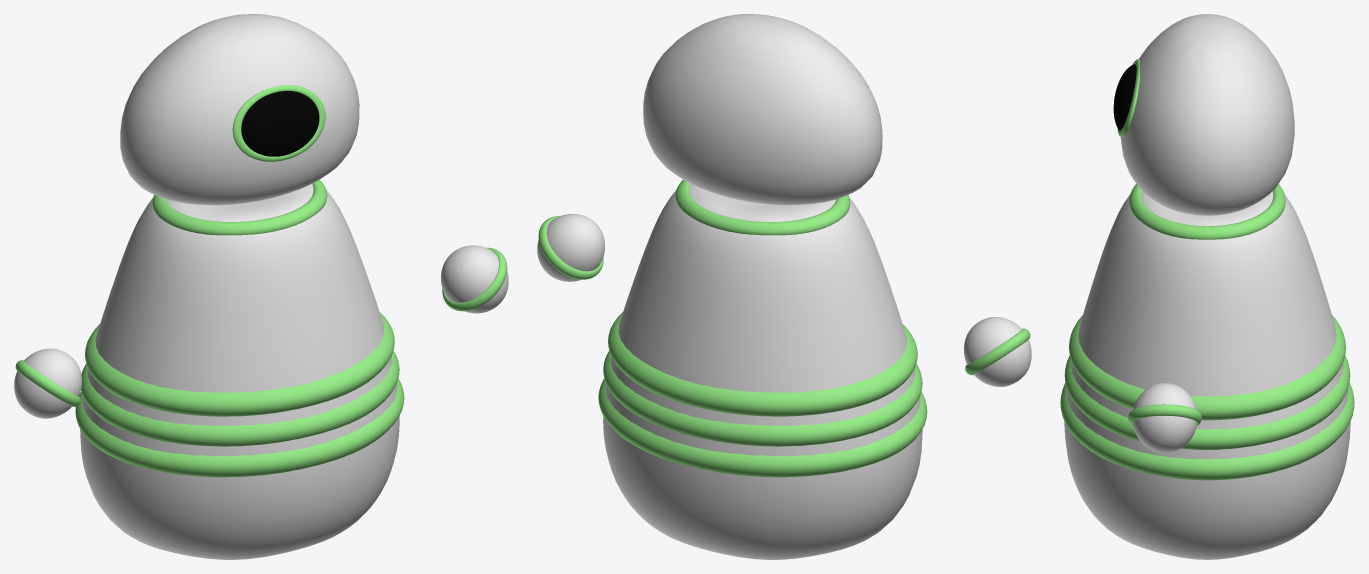
Rendered from Char1.fbx.
3 views of the same model, side by side, from view 1: azimuth 30°, elevation 25°; view 2: azimuth 150°, elevation 25°; view 3: azimuth 270°, elevation 25° (orthographic).
Visible parts, largest first — view 1: Body, Head, Body_Ring_2, Body_Ring_4, Body_Ring_3, Eye, Sphere, Sphere.001, Body_Ring_1, Torus, Torus.008, Torus.020; view 2: Body, Head, Body_Ring_2, Body_Ring_4, Body_Ring_3, Sphere, Sphere.001, Body_Ring_1, Torus.008, Torus.020; view 3: Body, Head, Body_Ring_4, Body_Ring_2, Body_Ring_3, Sphere.001, Body_Ring_1, Eye, Torus.008, Torus.
Part boxes in pixels (x1,y1,x2,y2): Body: [80, 184, 399, 559]; Head: [120, 14, 359, 205]; Body_Ring_2: [85, 312, 394, 416]; Body_Ring_4: [75, 378, 404, 477]; Body_Ring_3: [81, 351, 399, 446]; Eye: [241, 91, 319, 156]; Sphere: [14, 348, 81, 418]; Sphere.001: [441, 245, 508, 313]; Body_Ring_1: [152, 180, 327, 235]; Torus: [232, 85, 325, 161]; Torus.008: [442, 247, 507, 311]; Torus.020: [15, 360, 80, 406]; Body: [603, 184, 922, 559]; Head: [643, 14, 882, 205]; Body_Ring_2: [608, 312, 917, 416]; Body_Ring_4: [598, 378, 927, 477]; Body_Ring_3: [603, 351, 922, 446]; Sphere: [964, 317, 1031, 386]; Sphere.001: [537, 213, 604, 281]; Body_Ring_1: [675, 180, 850, 235]; Torus.008: [538, 216, 603, 279]; Torus.020: [965, 328, 1030, 375]; Body: [1064, 191, 1350, 559]; Head: [1120, 14, 1294, 215]; Body_Ring_4: [1060, 383, 1354, 480]; Body_Ring_2: [1069, 315, 1345, 420]; Body_Ring_3: [1064, 355, 1350, 449]; Sphere.001: [1132, 383, 1197, 452]; Body_Ring_1: [1129, 184, 1285, 239]; Eye: [1113, 64, 1136, 130]; Torus.008: [1128, 404, 1201, 425]; Torus: [1117, 59, 1139, 137].
Bounding box in the file's own units: 237 × 235 × 126.
